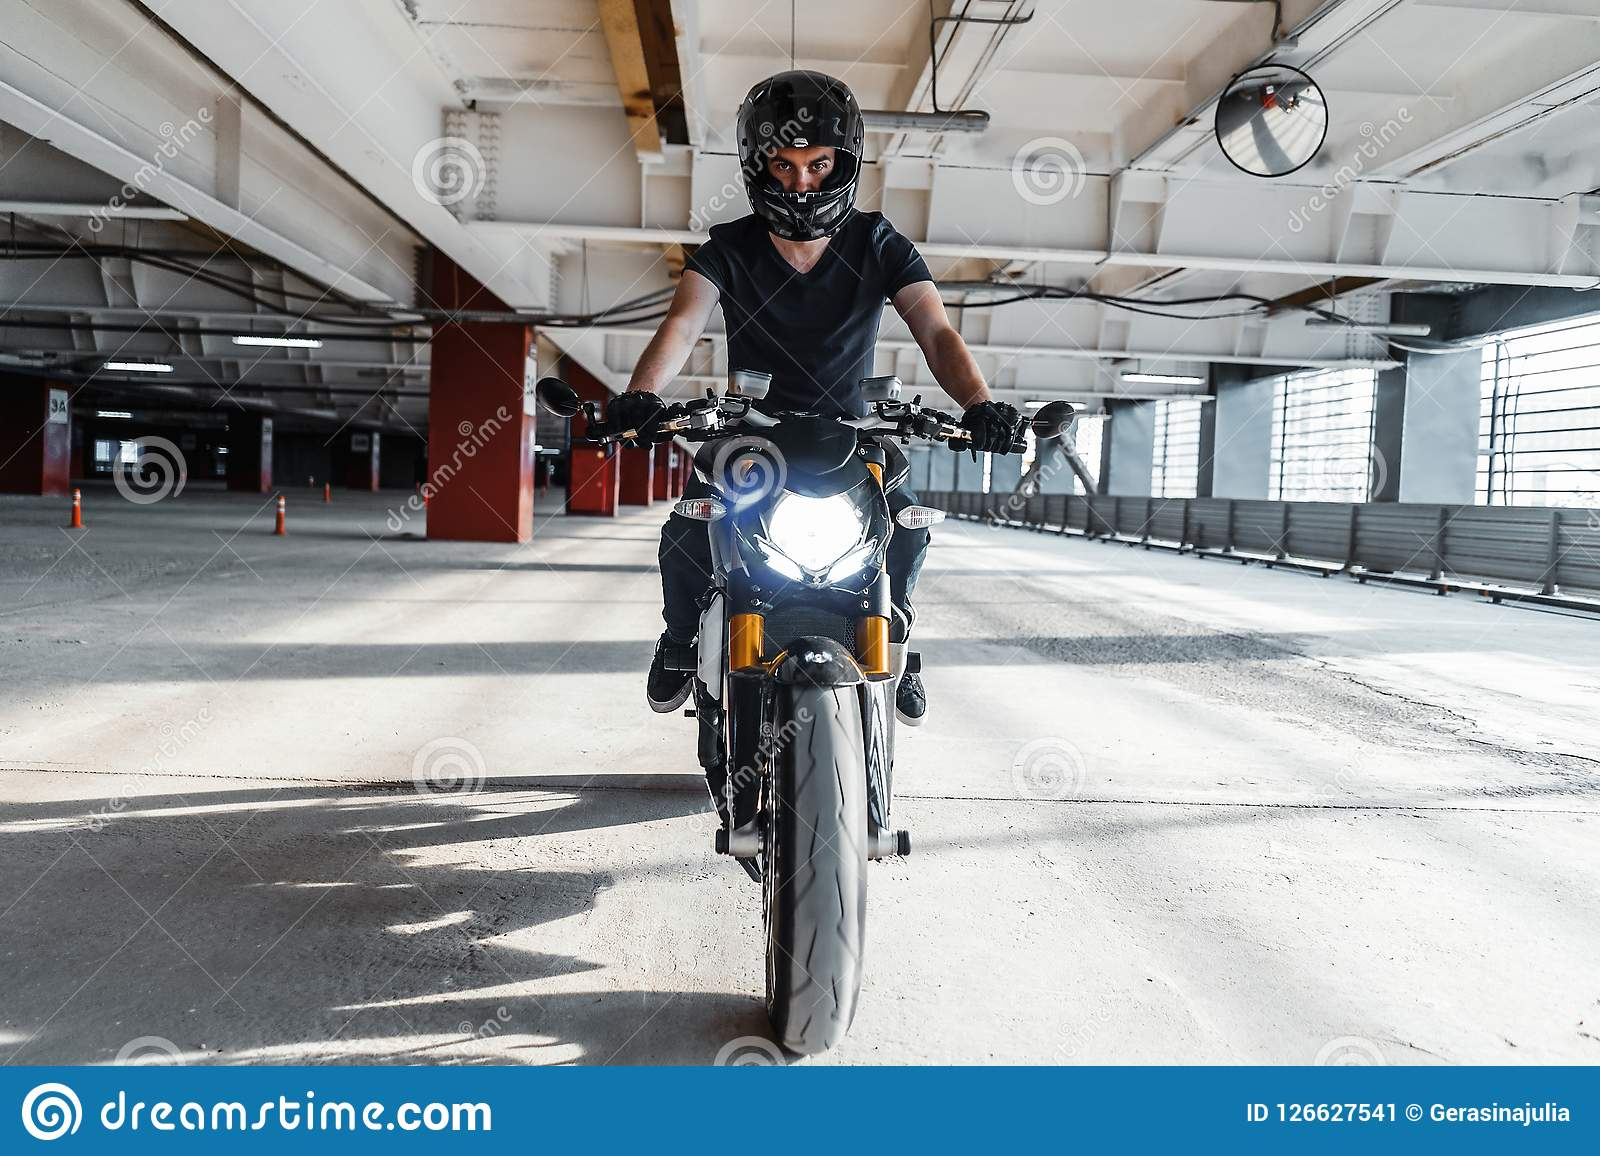helmet: (722, 70, 867, 238)
